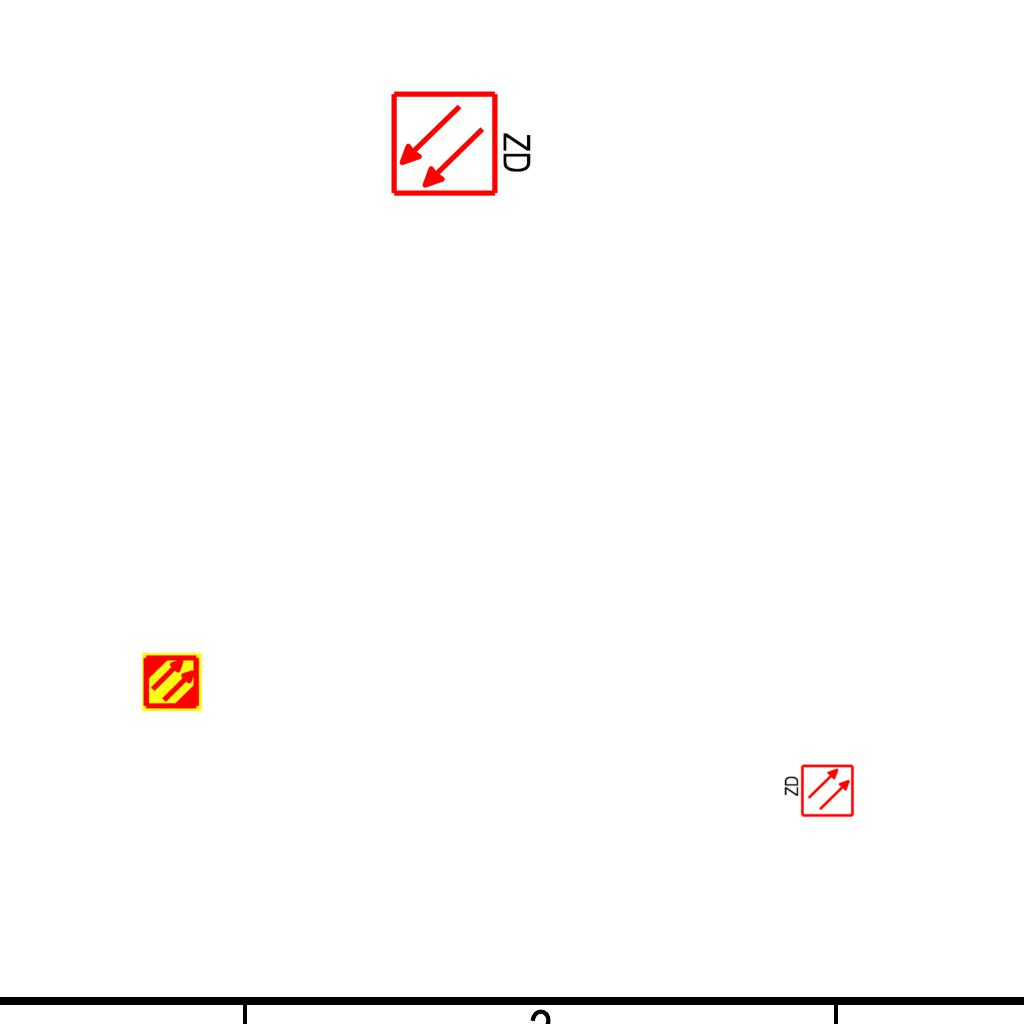ASR_Ansaugrauchmelder: (141, 651, 203, 713)
ZD_Melder_in_Zwischendecke_mit_Revisionsoeffnung_mind_40_x_40_cm: (389, 85, 538, 199), (781, 763, 855, 820)
